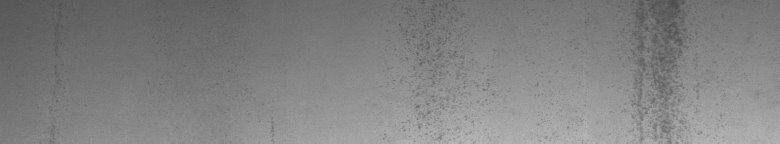ib: (399, 20, 498, 131)
